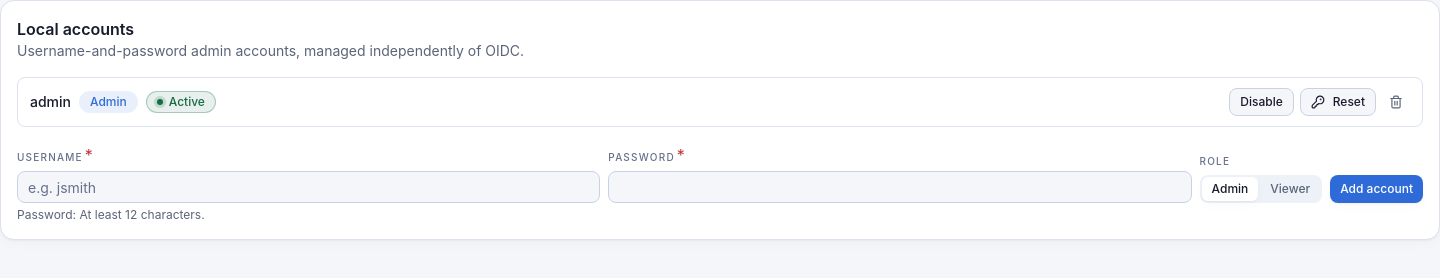
Test: <LocalAccountsPanel> › names the blank field instead of doing nothing at all
Expected: the text "admin" is shown, x1=30 y1=92 x2=71 y2=112
Click the button "Add account" at [1377, 189], box x1=1330 y1=175 x2=1423 y2=203
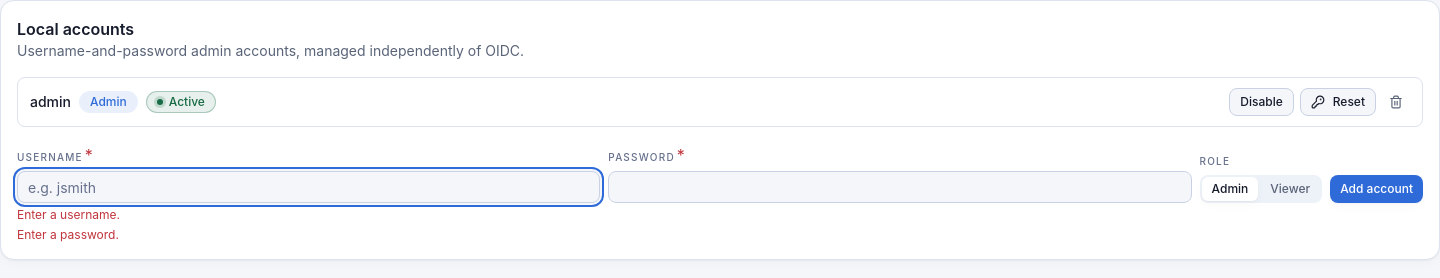
Result: the text "Enter a username." is shown at x1=17 y1=207 x2=120 y2=222
Result: the text "Enter a password." is shown at x1=17 y1=227 x2=119 y2=242
